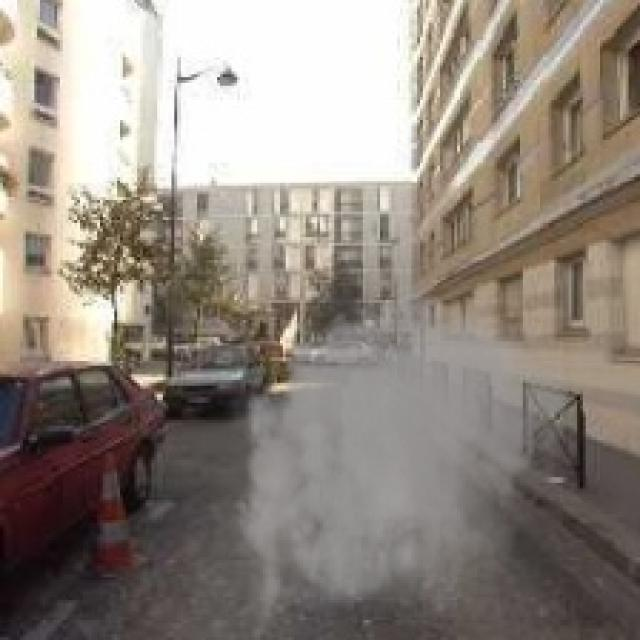smoke: (220, 269, 583, 637)
